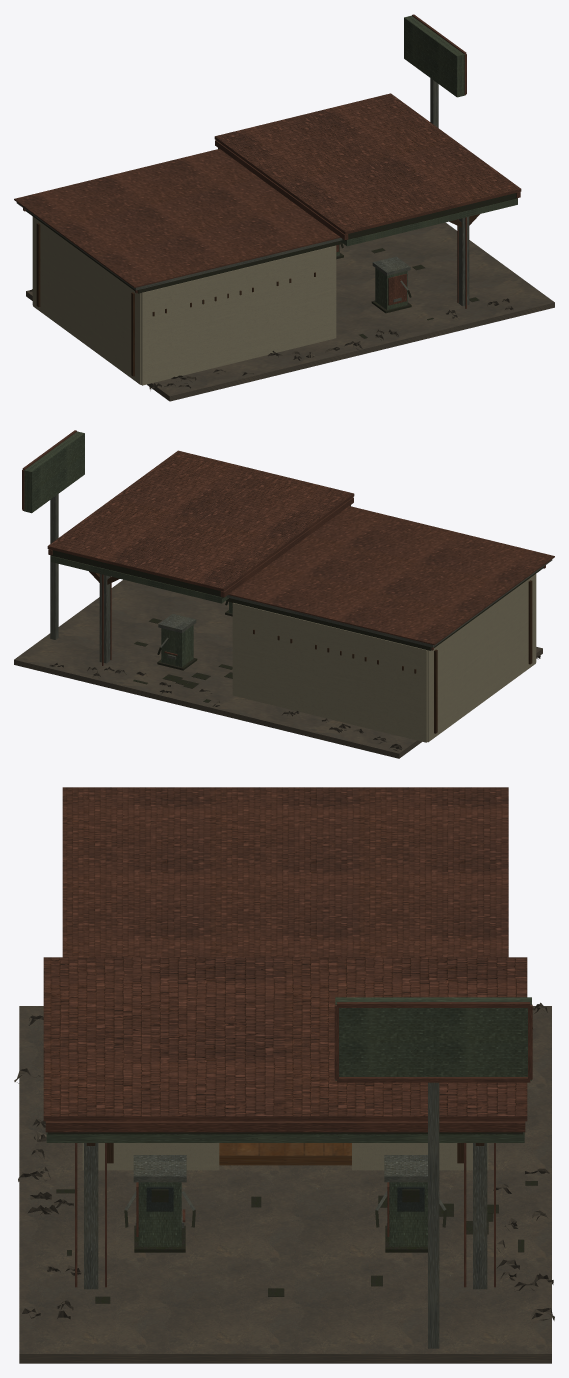
File: roadside_station.glb
3 renders of one model, top to bottom at view 1: azimuth 30°, elevation 25°; view 2: azimuth 150°, elevation 25°; view 3: azimuth 270°, elevation 25°, orthographic. The views are drawn at different scales.
Visible parts, largest first — view 1: oxide_sheet_metal, faded_facade, broken_fieldstone, old_green_enamel, cold_galvanized_metal, char_and_rubber, dark_timber_and_frame; view 2: oxide_sheet_metal, faded_facade, broken_fieldstone, old_green_enamel, cold_galvanized_metal, char_and_rubber, dark_timber_and_frame; view 3: oxide_sheet_metal, broken_fieldstone, old_green_enamel, cold_galvanized_metal, faded_facade, char_and_rubber, oak_planks_and_supports, smoky_window_glass.
Boxes of the visible parts, <box> form: oxide_sheet_metal: <box>14,14,521,308</box>; faded_facade: <box>32,216,336,385</box>; broken_fieldstone: <box>26,222,554,401</box>; old_green_enamel: <box>218,15,517,309</box>; cold_galvanized_metal: <box>16,78,469,306</box>; char_and_rubber: <box>25,193,517,338</box>; dark_timber_and_frame: <box>36,214,479,376</box>; oxide_sheet_metal: <box>22,430,554,665</box>; faded_facade: <box>232,574,536,742</box>; broken_fieldstone: <box>14,579,542,758</box>; old_green_enamel: <box>24,431,350,667</box>; cold_galvanized_metal: <box>50,494,552,663</box>; char_and_rubber: <box>51,550,543,702</box>; dark_timber_and_frame: <box>89,571,532,733</box>; oxide_sheet_metal: <box>43,787,532,1287</box>; broken_fieldstone: <box>14,1002,554,1363</box>; old_green_enamel: <box>46,997,531,1246</box>; cold_galvanized_metal: <box>84,1082,487,1348</box>; faded_facade: <box>82,1143,488,1170</box>; char_and_rubber: <box>48,1132,537,1303</box>; oak_planks_and_supports: <box>219,1143,351,1165</box>; smoky_window_glass: <box>146,1186,424,1211</box>.
Bounding box in the file's own units: 15.81 × 7.13 × 9.79.
9 materials, 9 textured.
